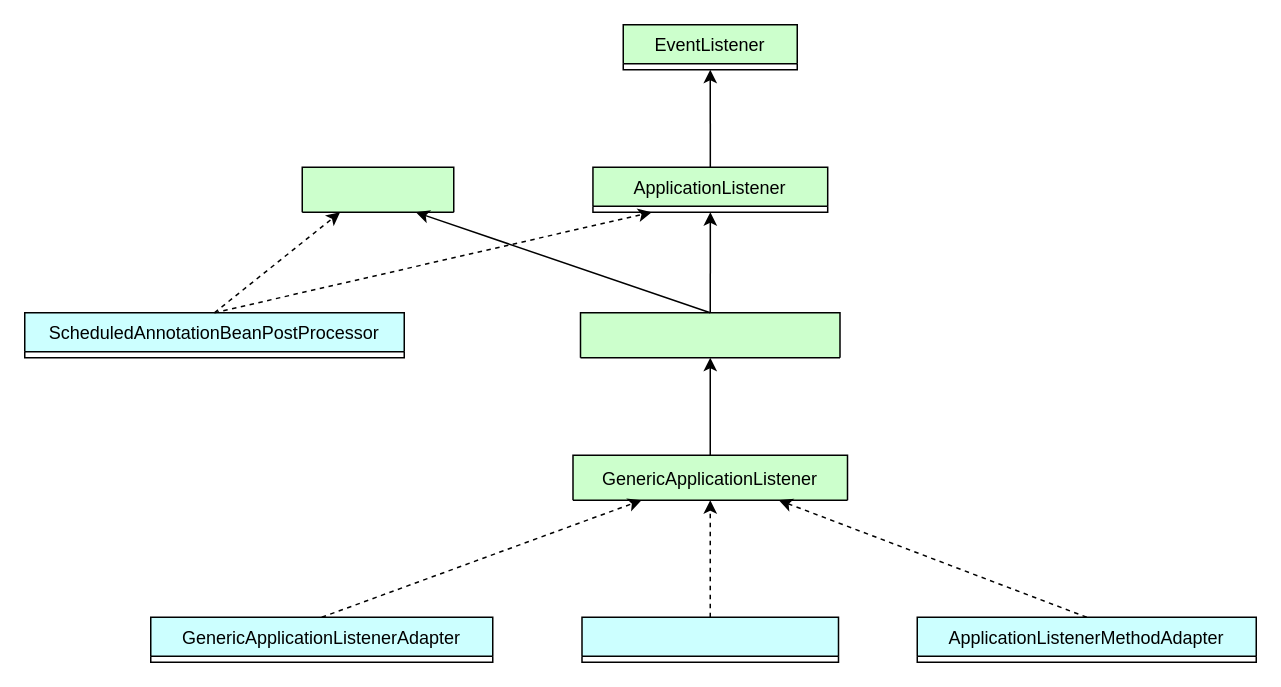
Some shapes in this 1281 by 687 pixel diagram are drawn without their labels. Each missing label, with the centre of its shape:
"Ordered" belongs at pixel 377 189.
"SmartApplicationListener" belongs at pixel 709 334.
"SourceFilteringListener" belongs at pixel 709 639.
